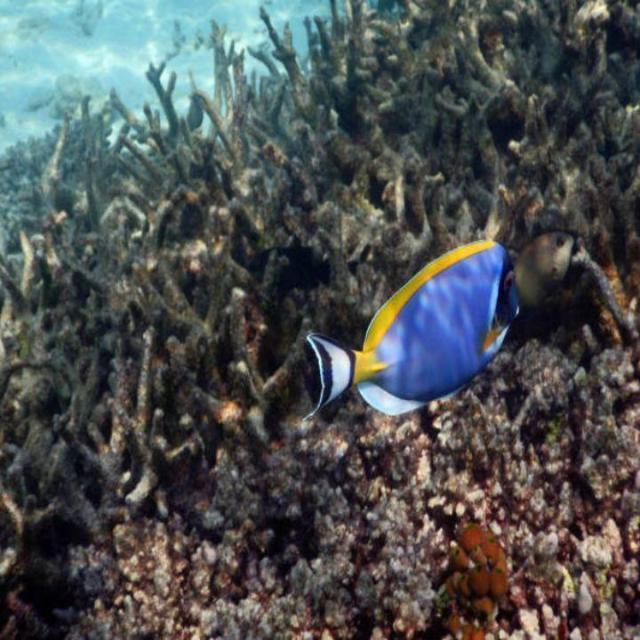Dead Coral: (0, 0, 640, 261), (0, 260, 292, 534)
